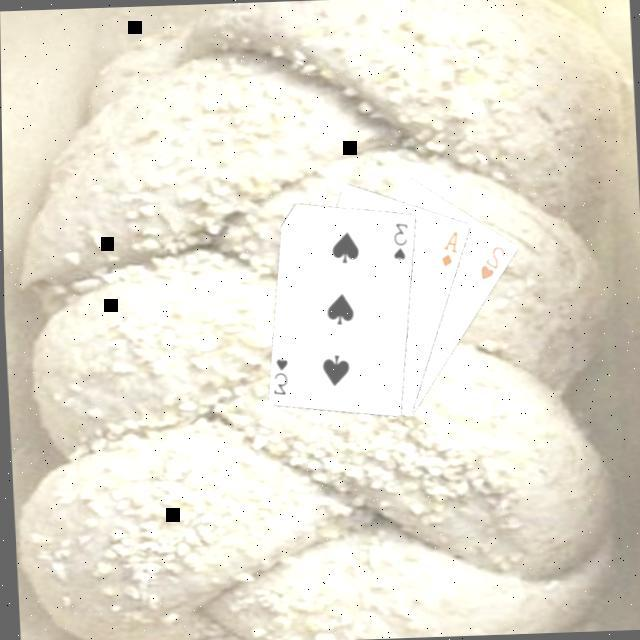2H: (476, 240, 509, 282)
3S: (389, 218, 414, 262), (269, 352, 294, 396)
AD: (438, 226, 463, 268)
